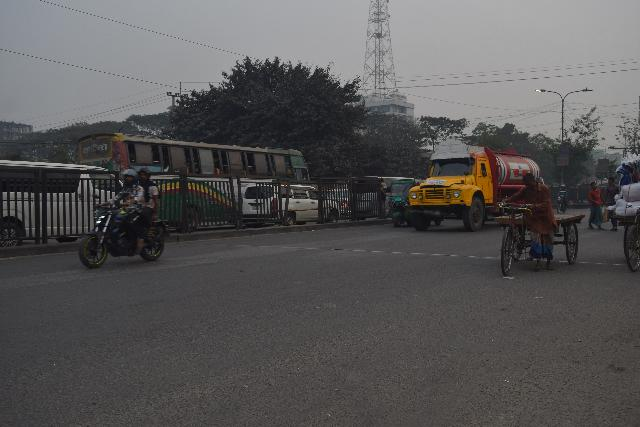bus: (83, 131, 305, 208)
motorcycle: (70, 201, 164, 272)
truck: (406, 138, 540, 219)
van: (0, 161, 131, 236)
